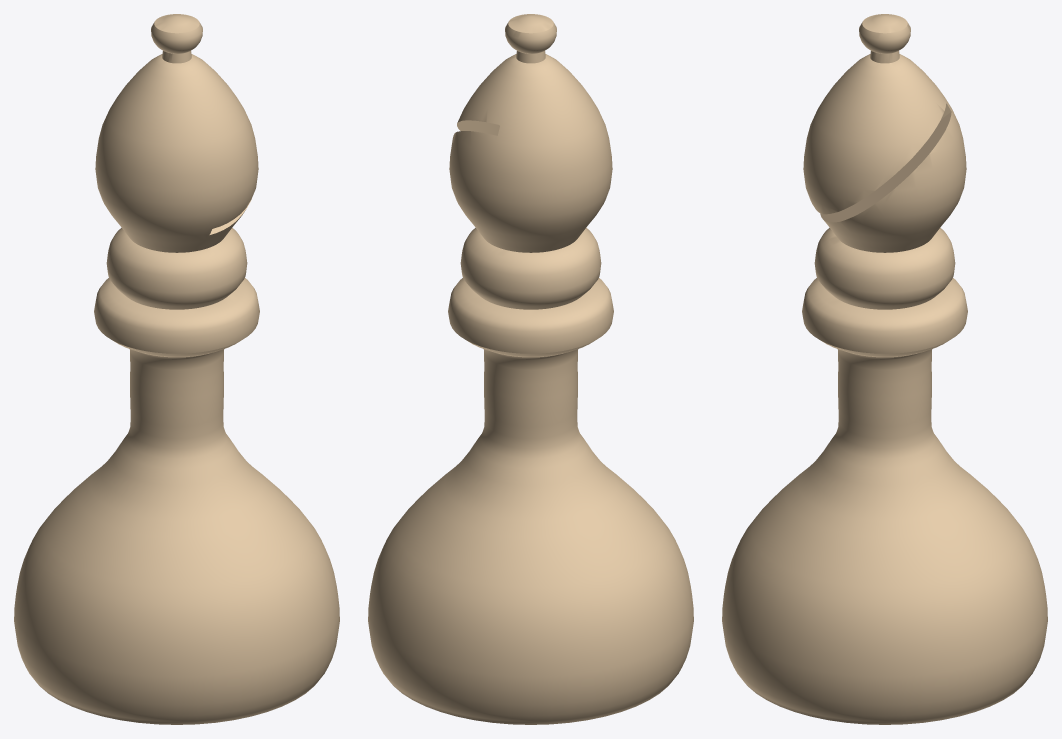
File: white-bishop.glb
3 views of the same model, side by side, from view 1: azimuth 30°, elevation 25°; view 2: azimuth 150°, elevation 25°; view 3: azimuth 270°, elevation 25° (orthographic).
Visible parts, largest first — view 1: white-bishop.001; view 2: white-bishop.001; view 3: white-bishop.001.
Boxes of the visible parts, left/top/right/bottom form: white-bishop.001: left=14, top=14, right=339, bottom=724; white-bishop.001: left=368, top=14, right=693, bottom=724; white-bishop.001: left=722, top=14, right=1047, bottom=724.
Size of the model in its own units: 0.6592 by 1.44 by 0.6592.
